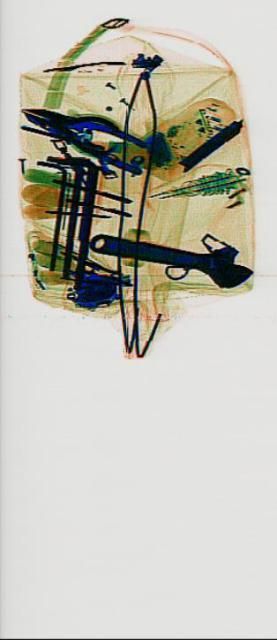Pliers: (18, 86, 117, 160)
Wrench: (87, 215, 252, 292)
